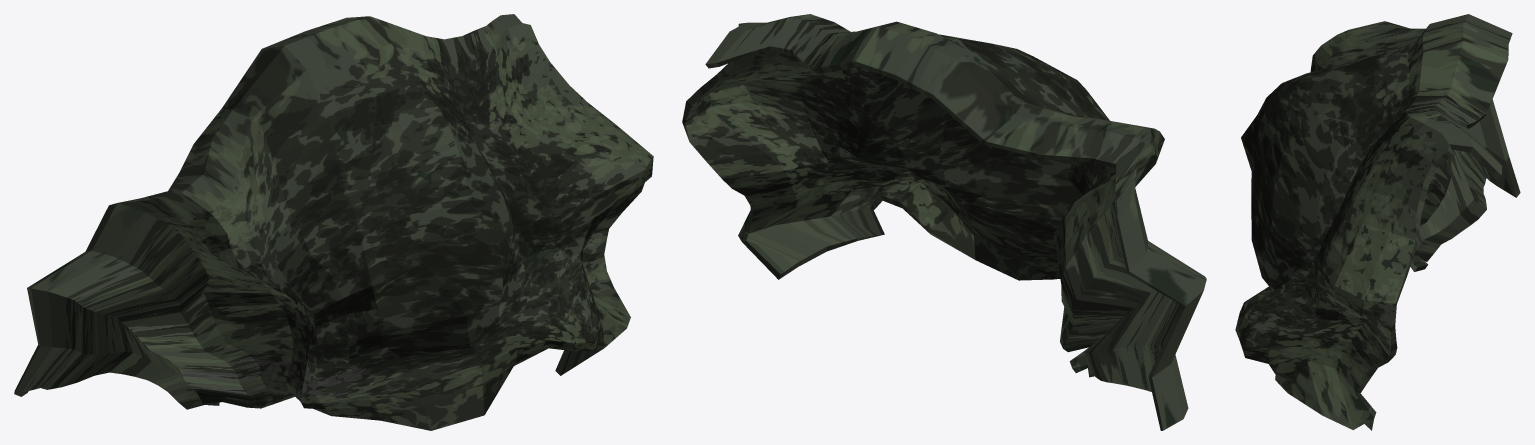
File: arbusto.fbx
The picture shows the model from 3 angles, left to right: view 1: azimuth 30°, elevation 25°; view 2: azimuth 150°, elevation 25°; view 3: azimuth 270°, elevation 25°; orthographic projection. The views are drawn at different scales.
Visible parts, largest first — view 1: Plane.031; view 2: Plane.031; view 3: Plane.031.
Part boxes in pixels (<box>): Plane.031: <box>14,14,653,430</box>; Plane.031: <box>682,14,1206,430</box>; Plane.031: <box>1235,14,1520,430</box>.
Bounding box in the file's own units: 151 × 83.36 × 67.52.
1 material, 1 textured.
